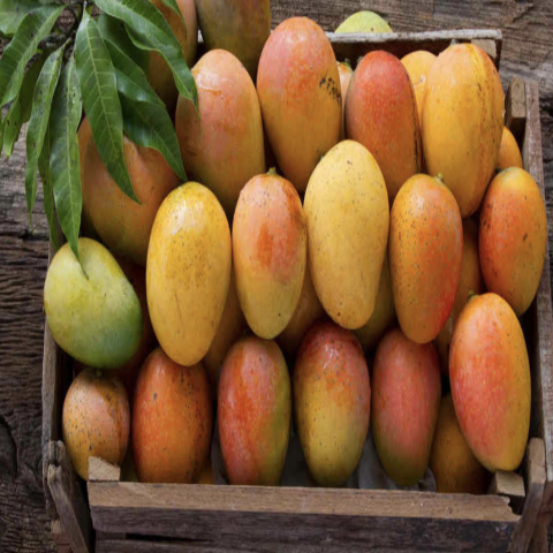mango: (297, 129, 399, 346), (411, 42, 520, 241), (141, 168, 236, 373), (442, 275, 537, 472), (245, 21, 346, 193), (384, 167, 480, 345), (217, 312, 298, 518), (33, 236, 137, 383), (223, 158, 308, 331), (361, 311, 442, 477), (474, 164, 549, 331)
